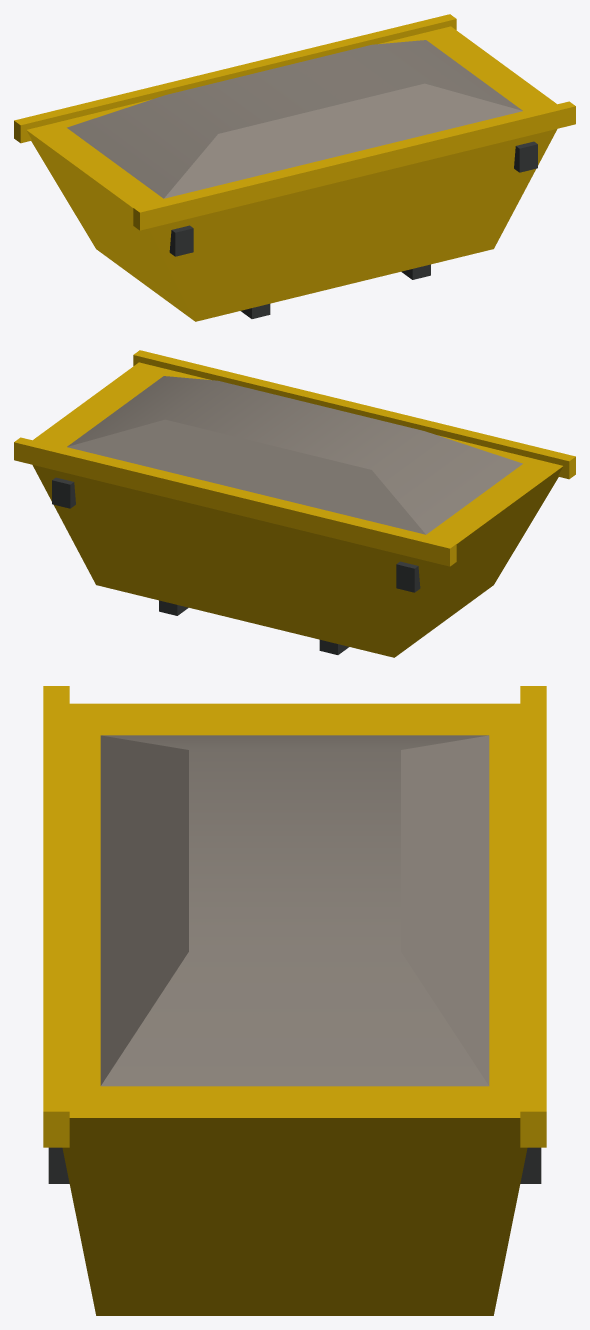
File: industrial.yard.skip_yellow.glb
3 views of the same model, one above another, from view 1: azimuth 30°, elevation 25°; view 2: azimuth 150°, elevation 25°; view 3: azimuth 270°, elevation 25° (orthographic). The views are drawn at different scales.
Visible parts, largest first — view 1: main__paint_da0, main__concrete_887, main__paint_333; view 2: main__paint_da0, main__concrete_887, main__paint_333; view 3: main__paint_da0, main__concrete_887, main__paint_333.
Part boxes in pixels (x1=…): main__paint_da0: x1=14, y1=14, x2=575, y2=321; main__concrete_887: x1=67, y1=40, x2=522, y2=198; main__paint_333: x1=169, y1=141, x2=537, y2=318; main__paint_da0: x1=14, y1=350, x2=575, y2=657; main__concrete_887: x1=67, y1=376, x2=522, y2=534; main__paint_333: x1=52, y1=477, x2=420, y2=654; main__paint_da0: x1=43, y1=686, x2=546, y2=1315; main__concrete_887: x1=100, y1=735, x2=489, y2=1086; main__paint_333: x1=48, y1=1147, x2=541, y2=1183.
Bounding box in the file's own units: 3.8 × 1.45 × 1.9.
